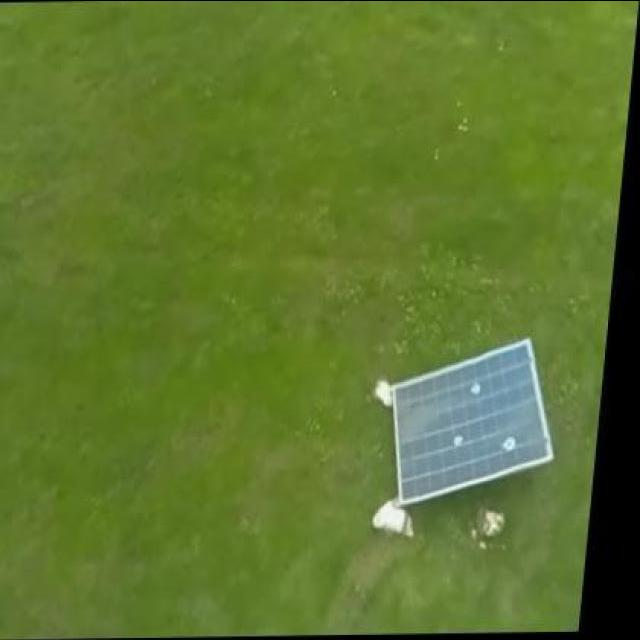soiled: (390, 335, 558, 495)
